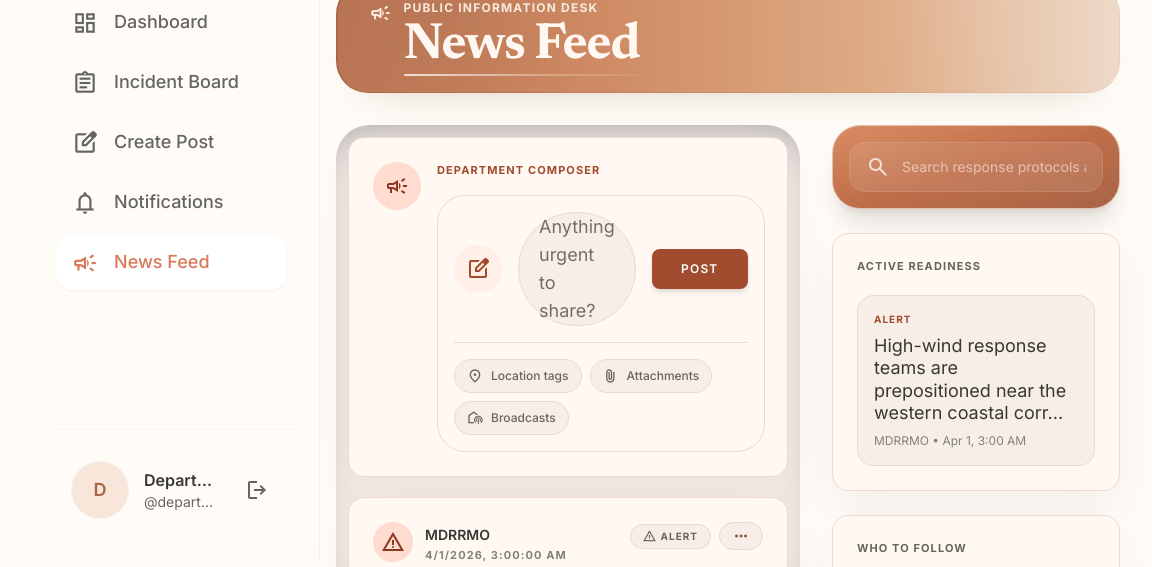
Test: DepartmentNewsFeedPage › shows post actions for the publisher and opens the delete confirmation modal
Click the button titled "Post actions" at {"x": 741, "y": 536}, box [719,522,763,550]
(page scrolled)
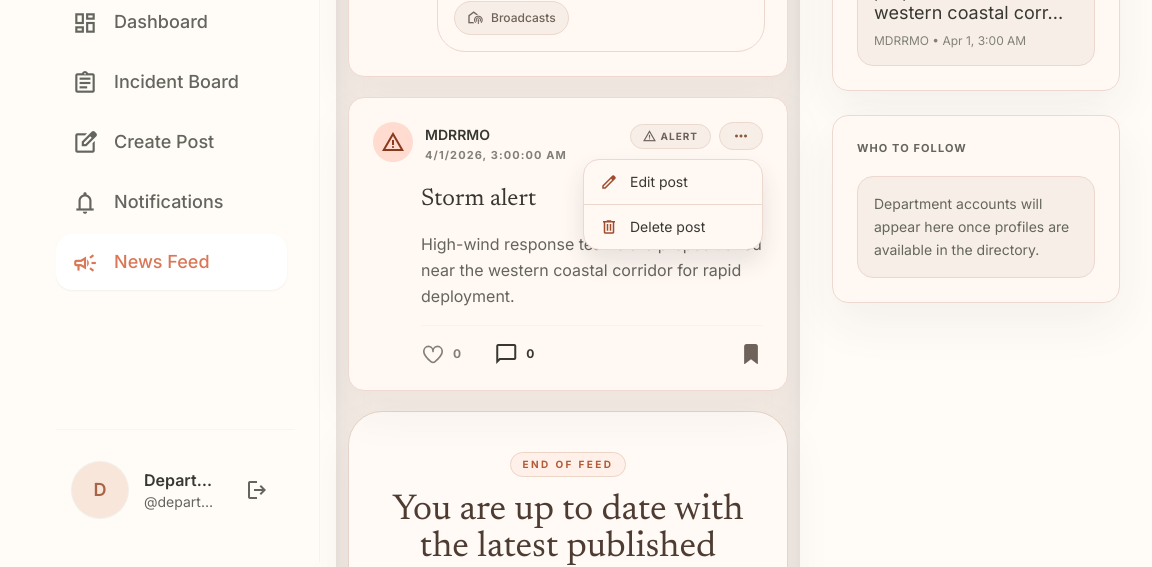
Check: the button "Edit post" is shown, box [584,160,762,204]
Check: the button "Delete post" is shown
Click the button "Delete post" at {"x": 673, "y": 226}, box [584,204,762,249]
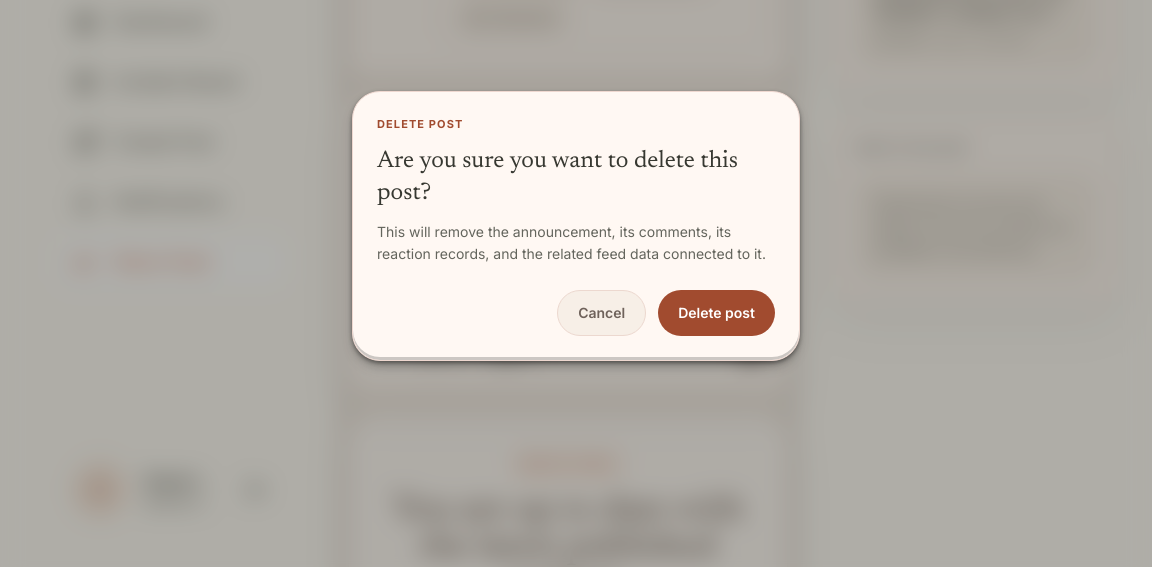
Check: the heading "Are you sure you want to delete this post?" is shown, box [377,144,775,208]
Check: the button "Delete post" is shown, box [658,290,775,336]
